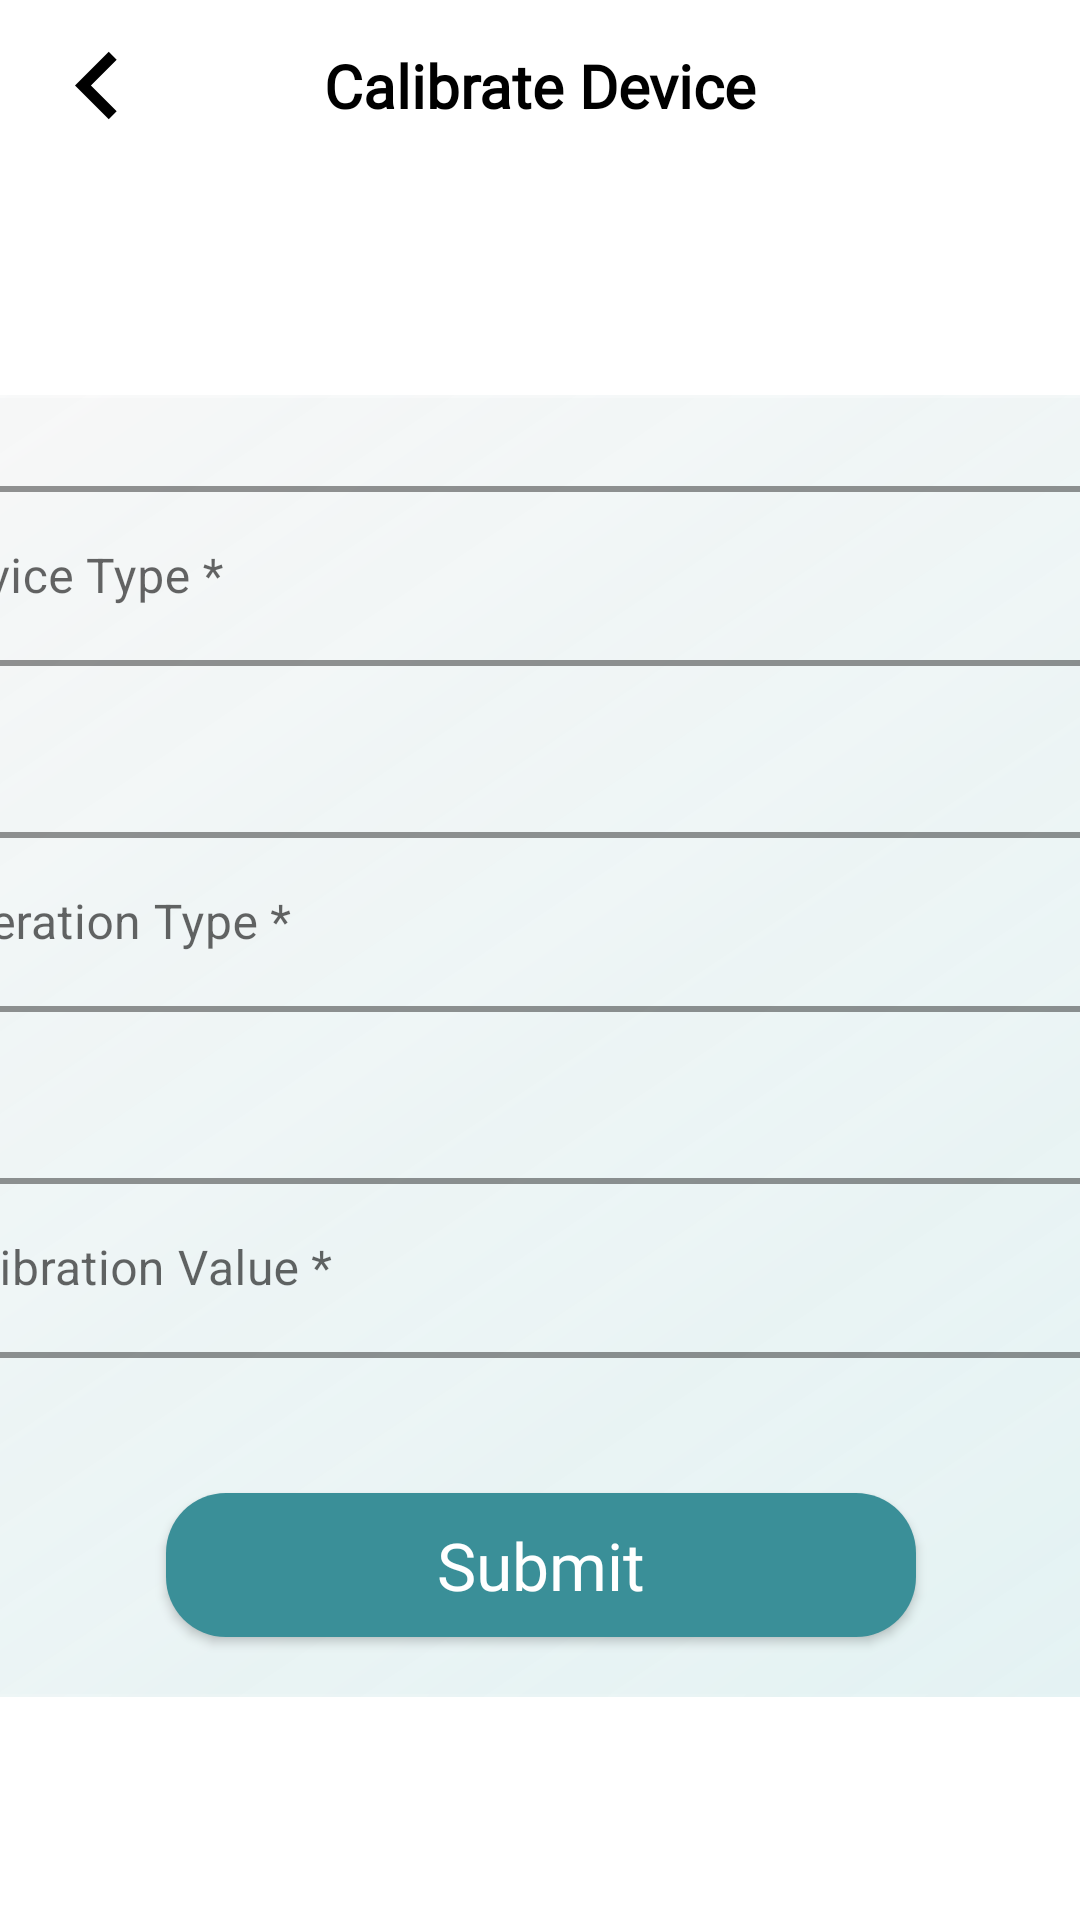

Named icons in this screenshot (1080 × 1920) and their bounding boxes, {"left": x1, "top": y1, "right": x2, "bottom": y2}:
back arrow: {"left": 75, "top": 52, "right": 117, "bottom": 119}
